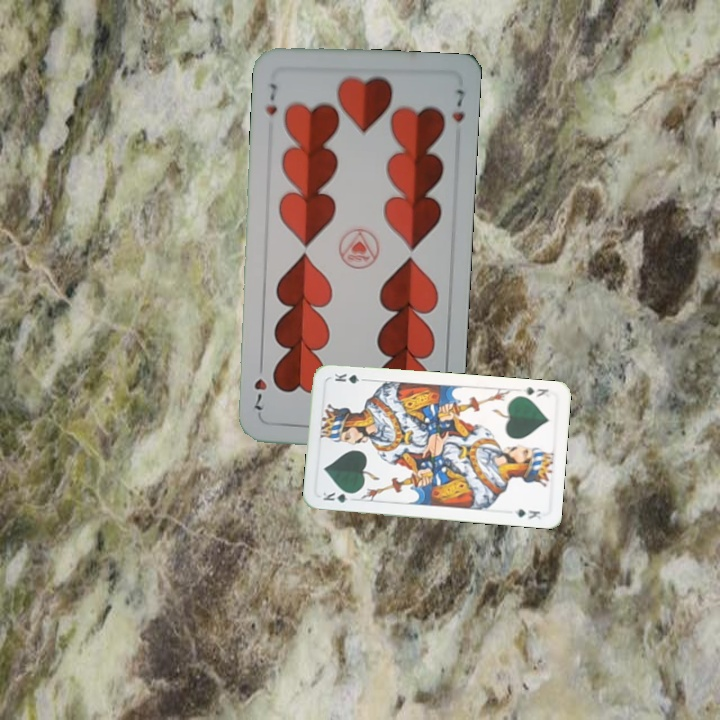GK: (319, 487, 358, 505), (519, 383, 551, 400)
H7: (261, 80, 280, 118)
